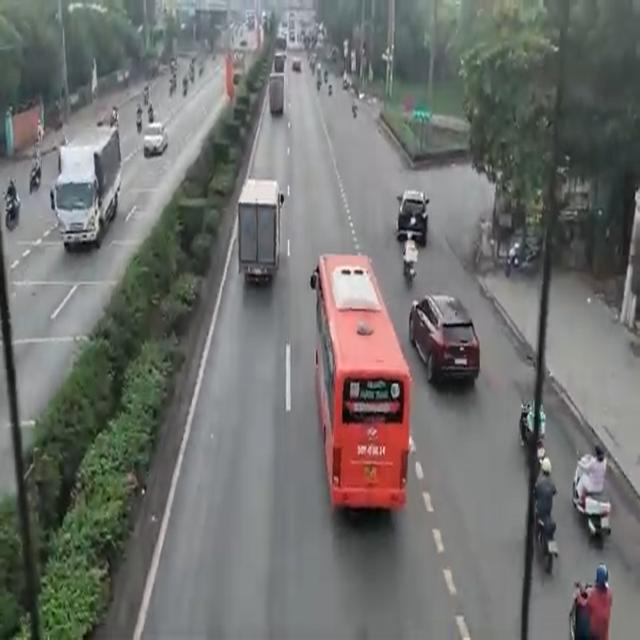bus: (316, 253, 404, 520)
car: (410, 287, 480, 390), (397, 186, 429, 242), (142, 117, 166, 162)
motor: (566, 551, 615, 640), (573, 449, 617, 539), (533, 457, 559, 572), (518, 393, 546, 462), (400, 232, 415, 291)
truck: (57, 127, 121, 257), (239, 178, 279, 294), (264, 68, 288, 125)
